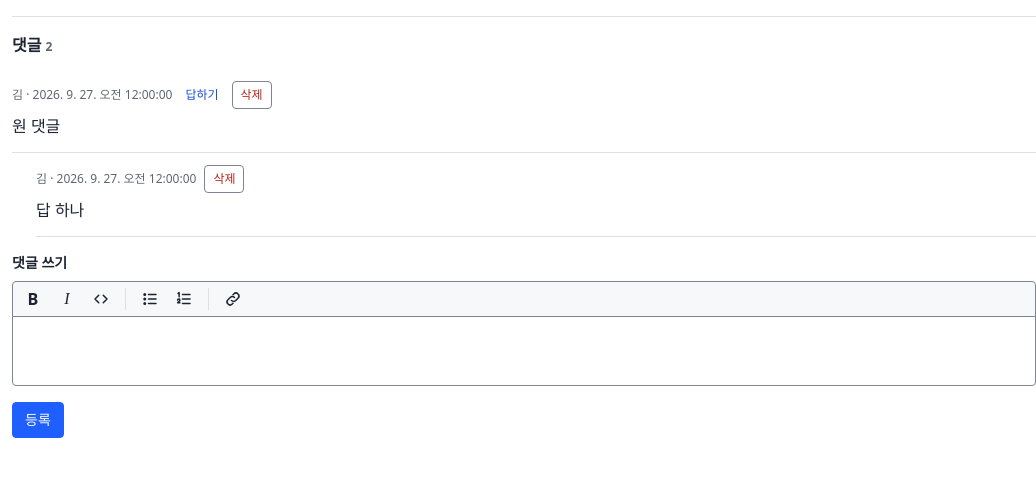
Test: Comments › **쓰는 칸의 보이는 이름은 묶이지 않는 label이 아니다** — 칸의 이름과 같은 글이 제목으로 보이고, 답하기를 누르면 둘 다 "답 쓰기"다 (J.7)
The width and height of the screenshot is (1036, 491).
Expected: the text "원 댓글" is shown, [12,115,60,137]
Expected: the heading "댓글 쓰기" is shown, [12,253,67,272]
Click the button "답하기".
click(202, 95)  # box [180,81,224,109]
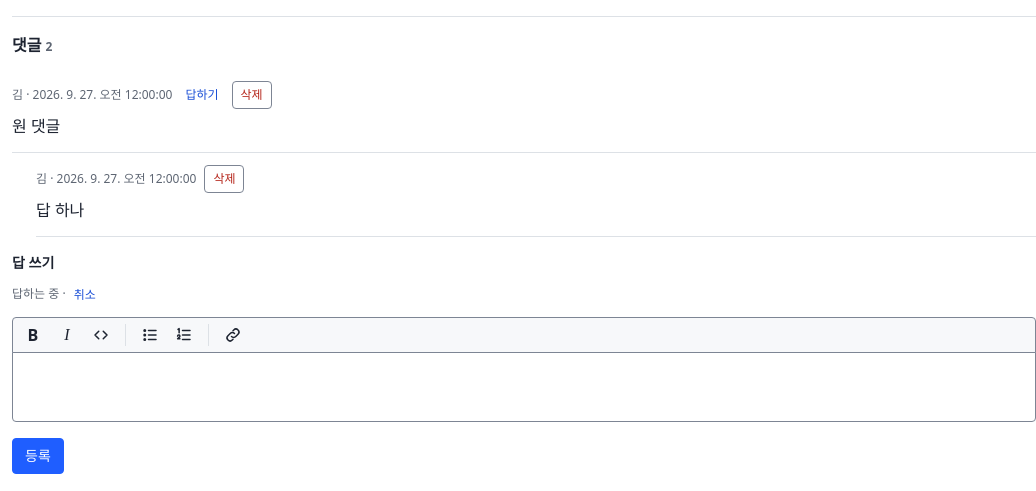
Now the heading "답 쓰기" is shown, box [12,253,54,272]
Now the field named "답 쓰기" is shown, box [12,352,1035,422]
Click the button "취소".
click(85, 295)  # box [69,281,101,309]
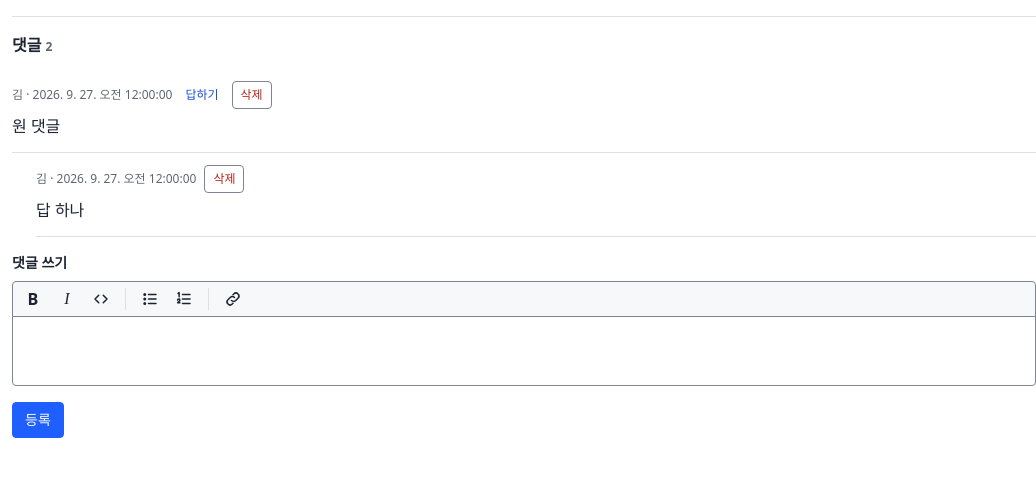
Now the field named "댓글 쓰기" is shown, box [12,316,1035,386]
